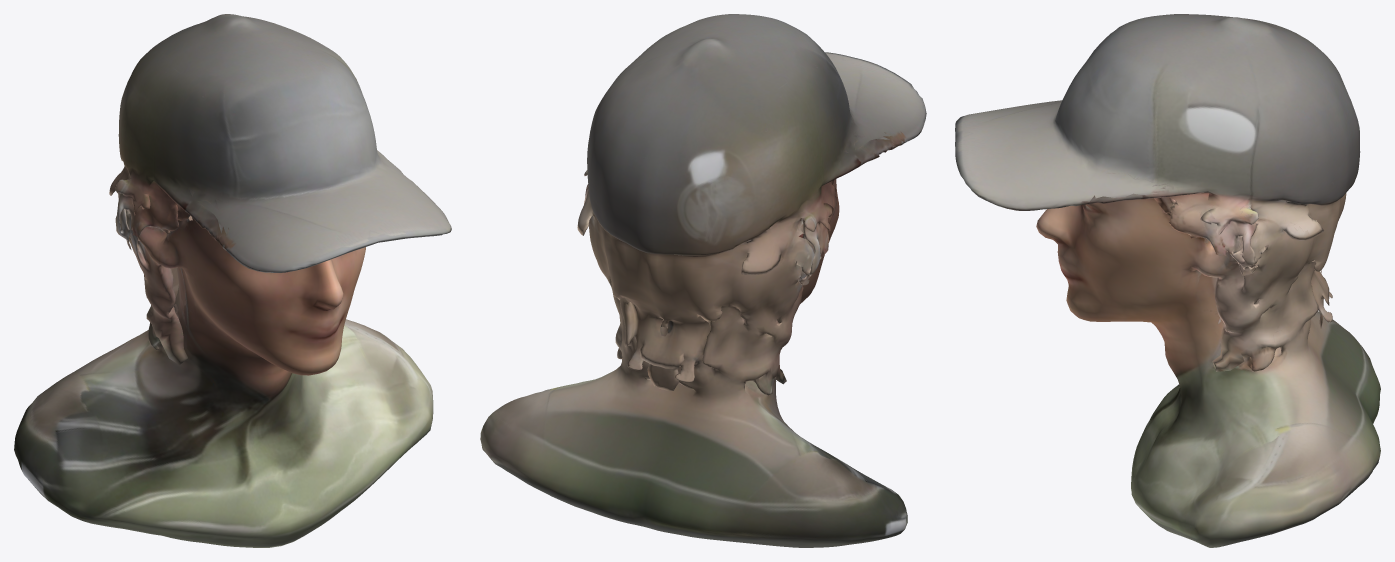
Rendered from Headphones_and_Hat_1003022555.glb.
3 renders of one model, left to right at view 1: azimuth 30°, elevation 25°; view 2: azimuth 150°, elevation 25°; view 3: azimuth 270°, elevation 25°, orthographic. The views are drawn at different scales.
Size of the model in its own units: 1.65 by 1.99 by 1.57.
1 material, 1 textured.
